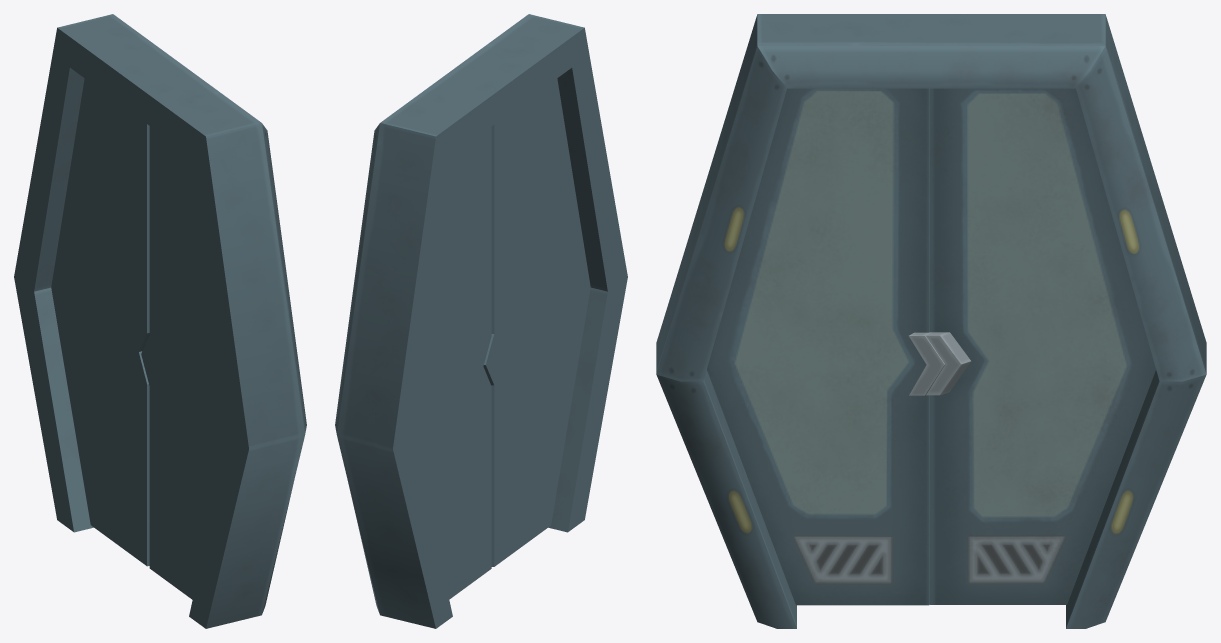
File: OM_PodDoor.fbx
3 views of the same model, side by side, from view 1: azimuth 30°, elevation 25°; view 2: azimuth 150°, elevation 25°; view 3: azimuth 270°, elevation 25° (orthographic). The views are drawn at different scales.
Visible parts, largest first — view 1: polySurface389, polySurface391, polySurface390; view 2: polySurface389, polySurface390, polySurface391; view 3: polySurface391, polySurface390, polySurface389.
Boxes of the visible parts, <box> form: polySurface389: <box>14,14,306,628</box>; polySurface391: <box>51,78,149,566</box>; polySurface390: <box>141,126,228,599</box>; polySurface389: <box>335,14,627,628</box>; polySurface390: <box>483,78,590,566</box>; polySurface391: <box>413,126,491,599</box>; polySurface391: <box>926,88,1155,604</box>; polySurface390: <box>707,88,944,605</box>; polySurface389: <box>656,14,1206,628</box>.
Bounding box in the file's own units: 41.1 × 285 × 246.
